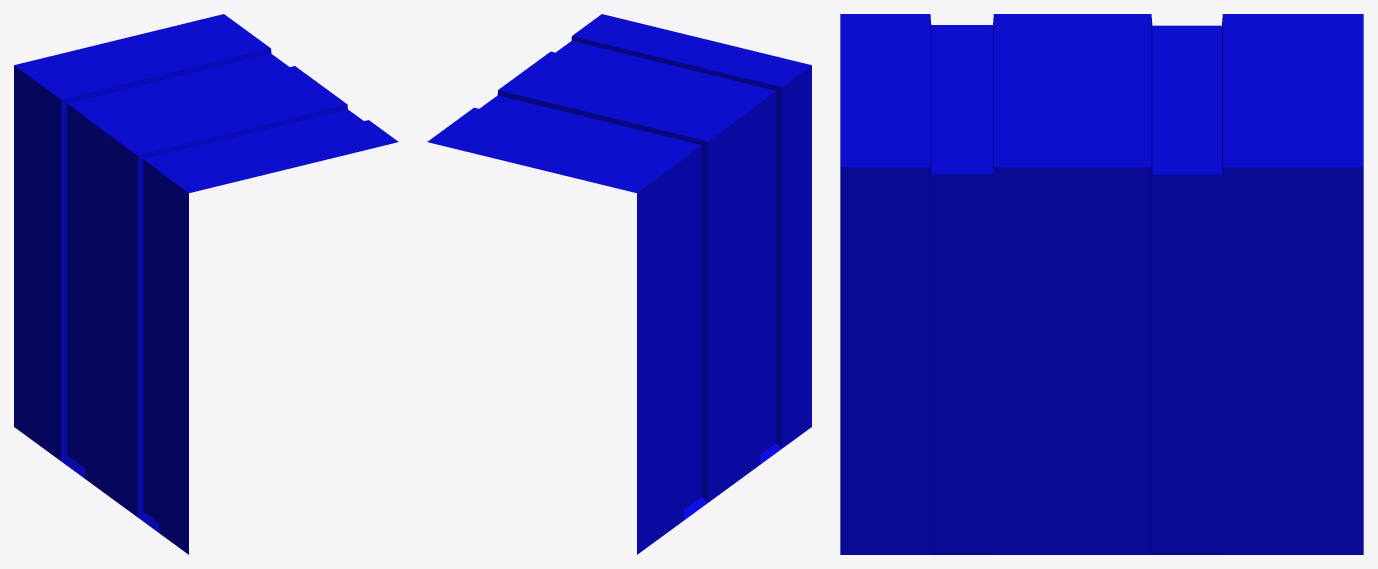
Rendered from outer_1.fbx.
3 views of the same model, side by side, from view 1: azimuth 30°, elevation 25°; view 2: azimuth 150°, elevation 25°; view 3: azimuth 270°, elevation 25° (orthographic). The views are drawn at different scales.
Visible parts, largest first — view 1: polySurface96; view 2: polySurface96; view 3: polySurface96.
Boxes of the visible parts, left/top/right/bottom form: polySurface96: left=14, top=14, right=398, bottom=554; polySurface96: left=427, top=14, right=811, bottom=554; polySurface96: left=840, top=14, right=1363, bottom=554.
Bounding box in the file's own units: 1.7 × 2.81 × 2.46.
